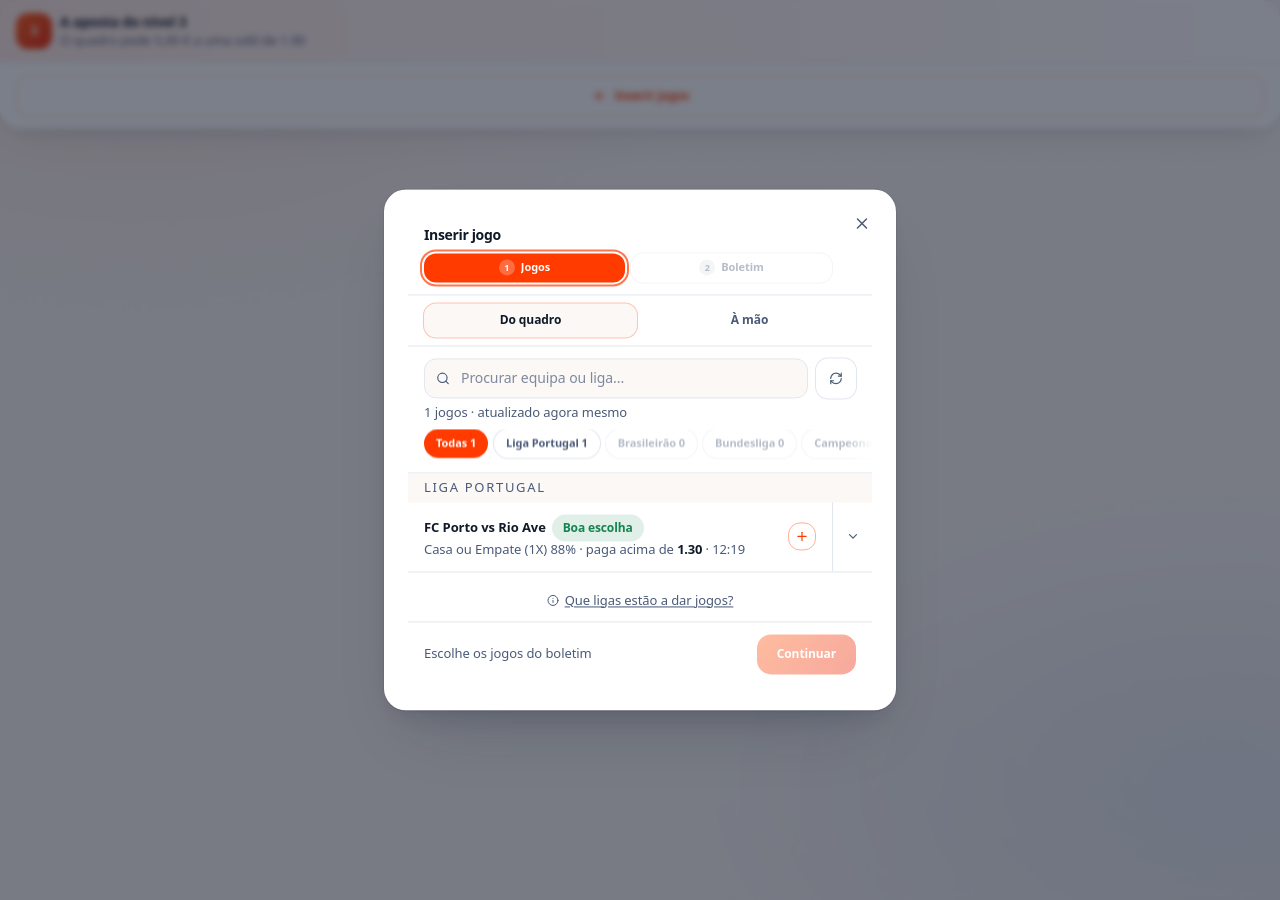
Test: registering a bet from the games pop-up › keeps the other markets one tap away, without repeating the one on the row
The image size is (1280, 900).
Click the button named "Outros mercados de FC Porto vs Rio Ave".
click(852, 537)  # box [832,502,872,571]
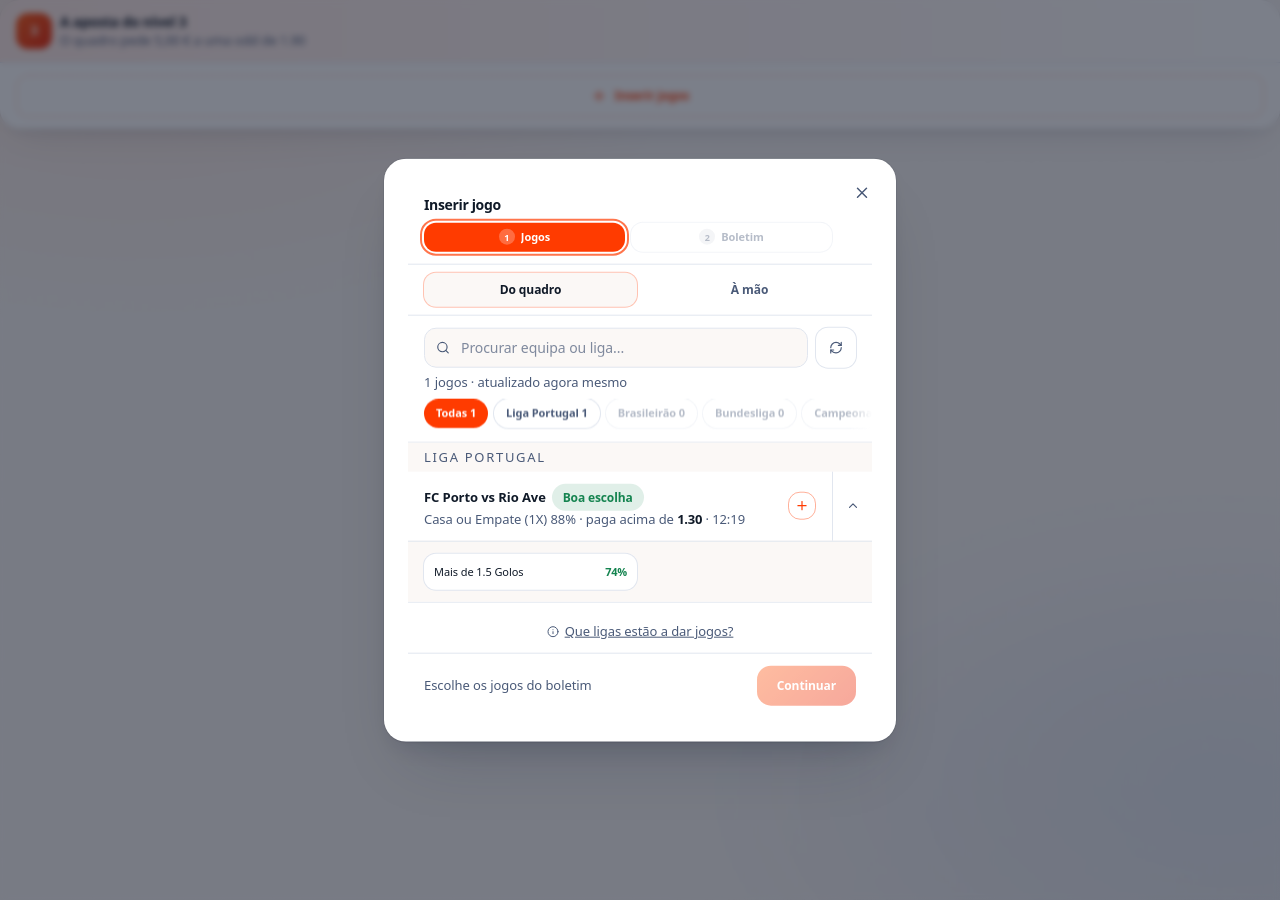
Now the button with aria-label "Apostar em Mais de 1.5 Golos" is shown, box [424,553,637,590]
